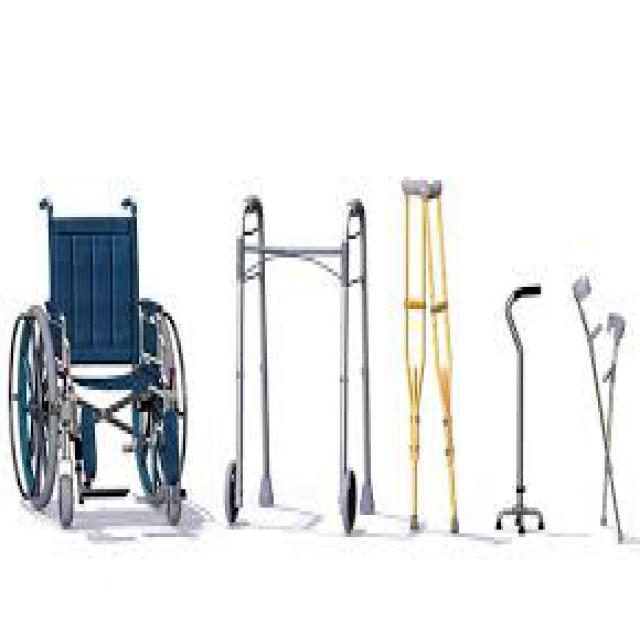wheelchair: (4, 173, 201, 552)
